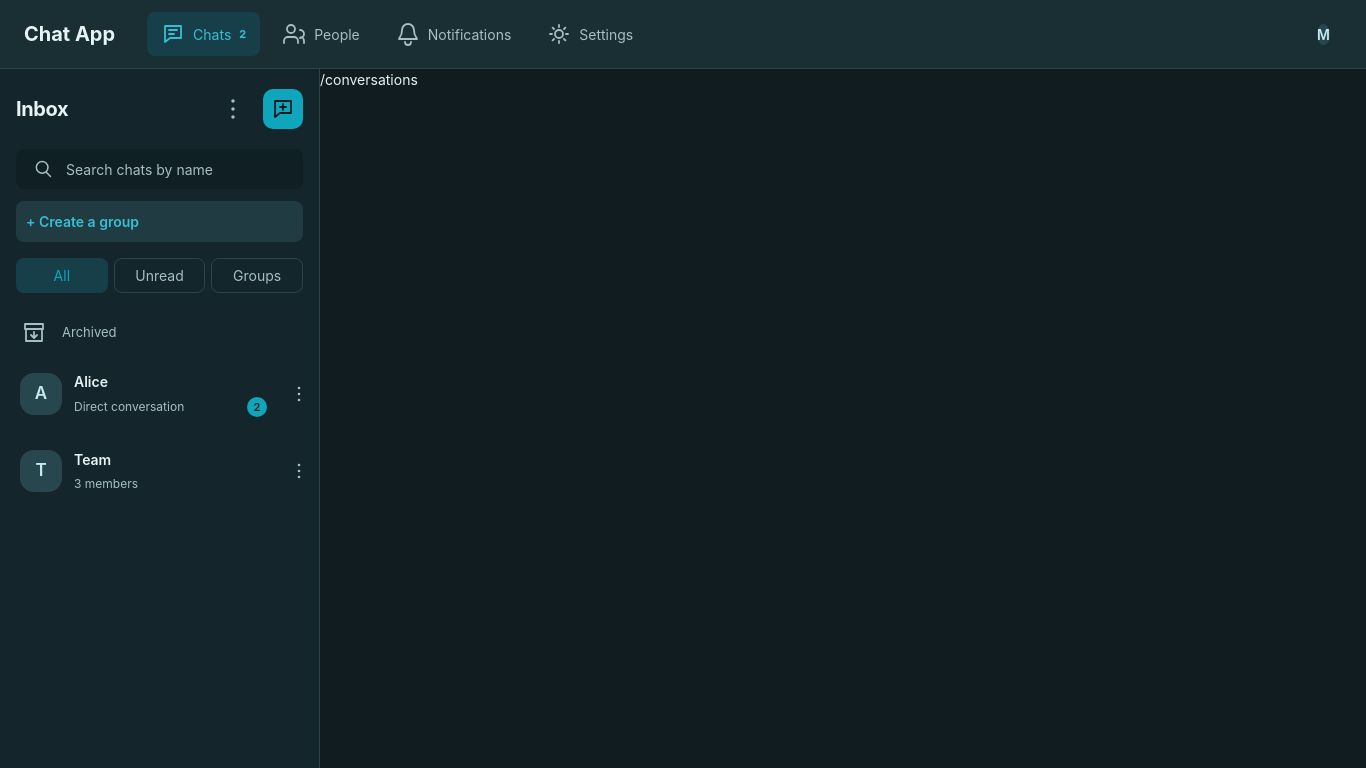
Test case: shared conversation workspace › opens contacts while keeping the conversation and uses existing create/get
The width and height of the screenshot is (1366, 768).
Click the text "Alice" at (91, 382), box [74,371,108,392]
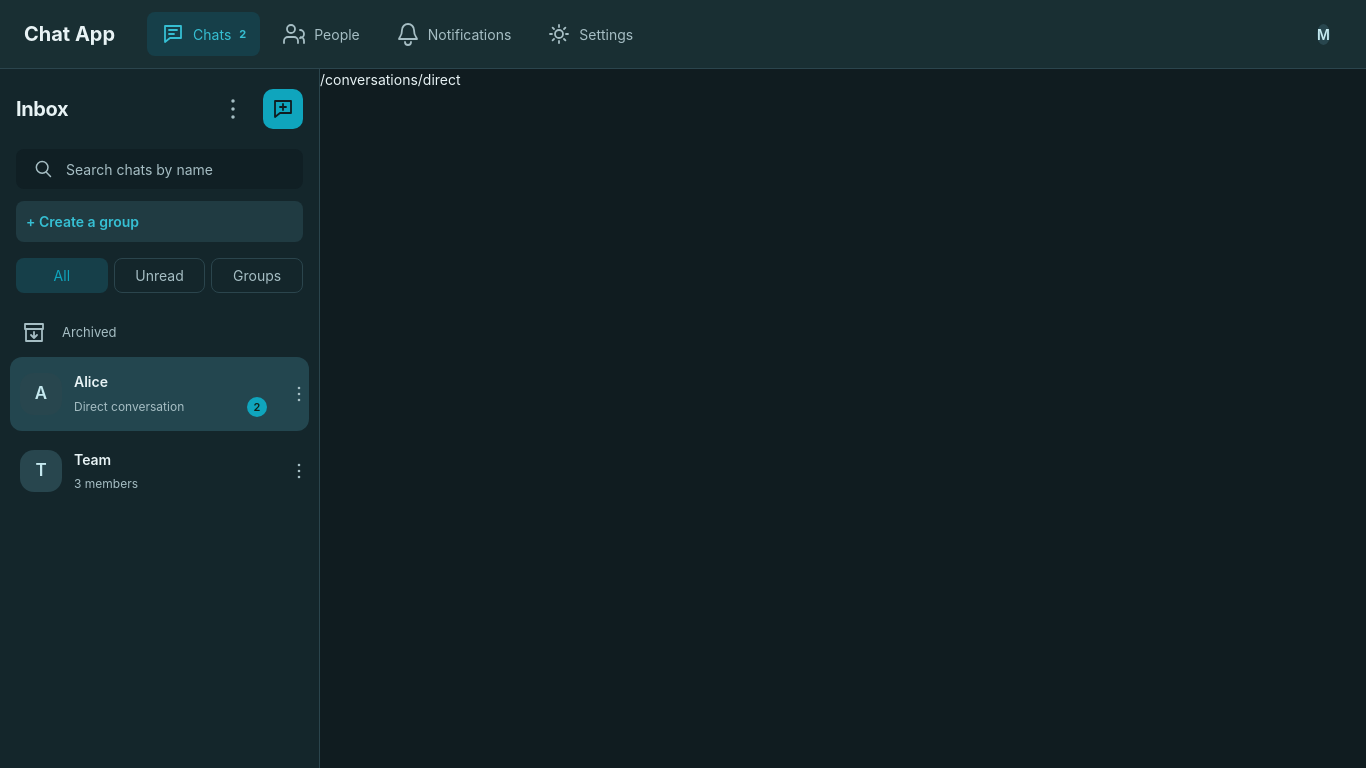
Click the button named "New chat" at (283, 109), box [263,89,303,129]
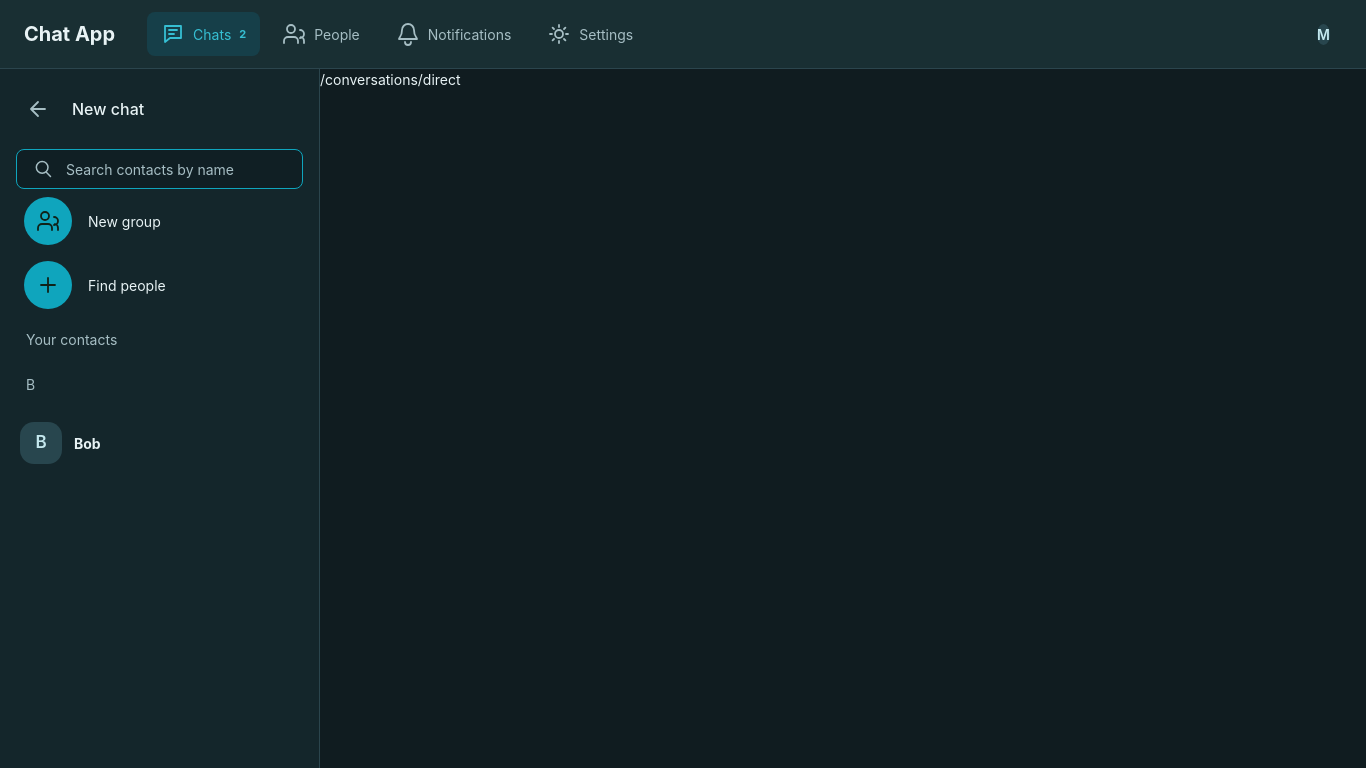
Result: the text with test id "pane" reads "/conversations/direct" at [320,71,461,88]
Result: the text "Bob" is shown
Click the text "Bob" at (87, 443), box [74,434,101,452]
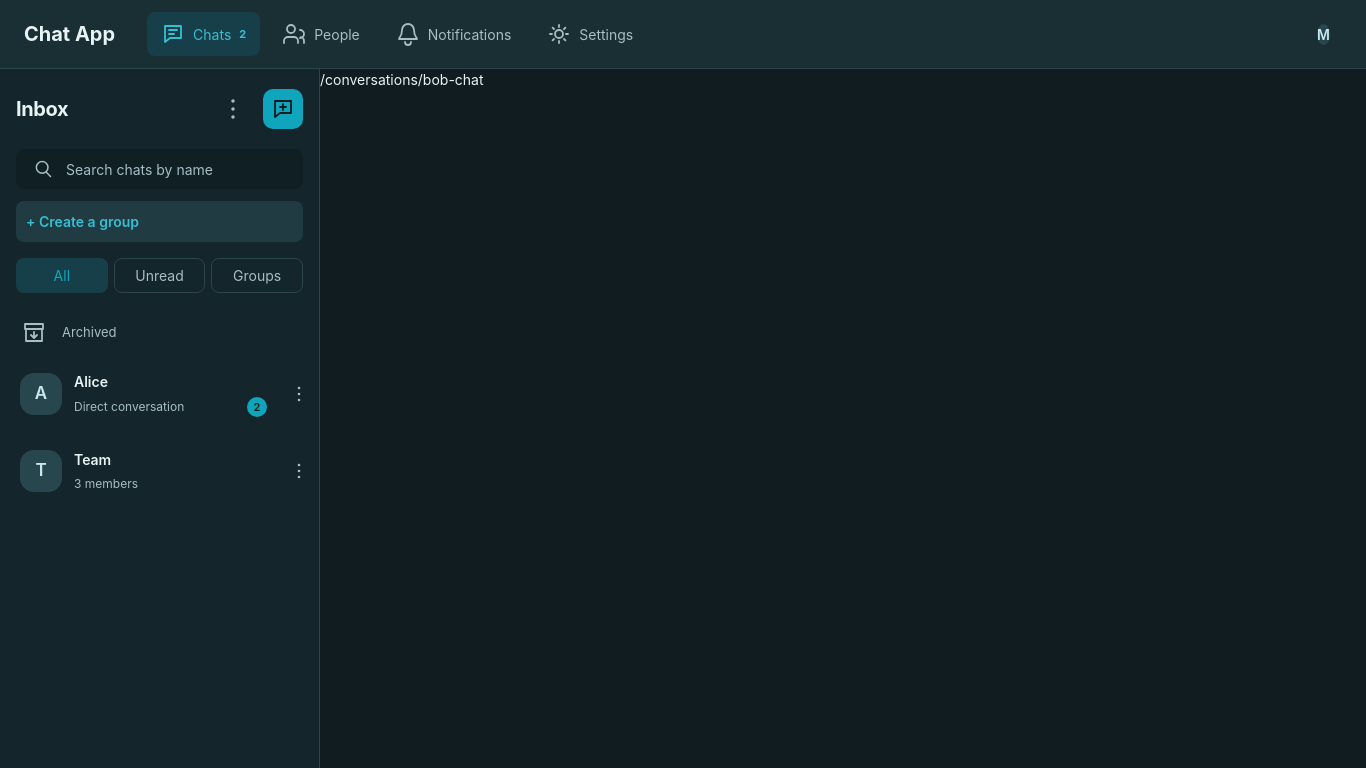
Expected: the field labelled "Search contacts" is not shown
Result: the text with test id "pane" reads "/conversations/bob-chat" at [320,71,484,88]
